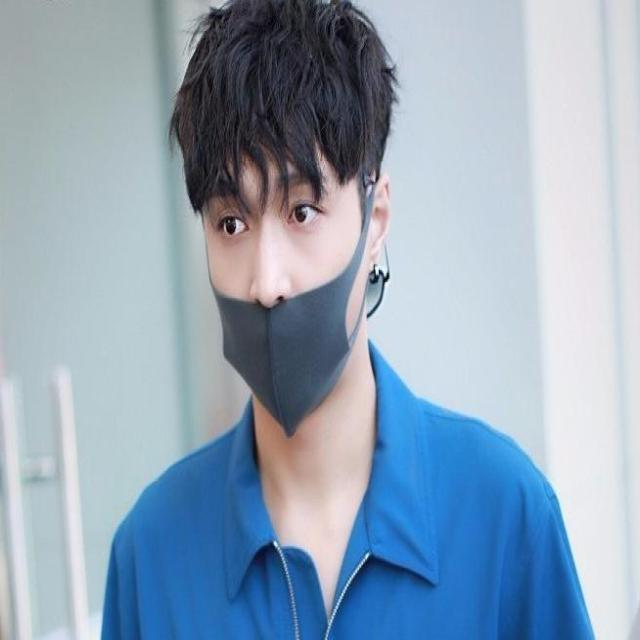hairnet: (196, 154, 368, 423)
